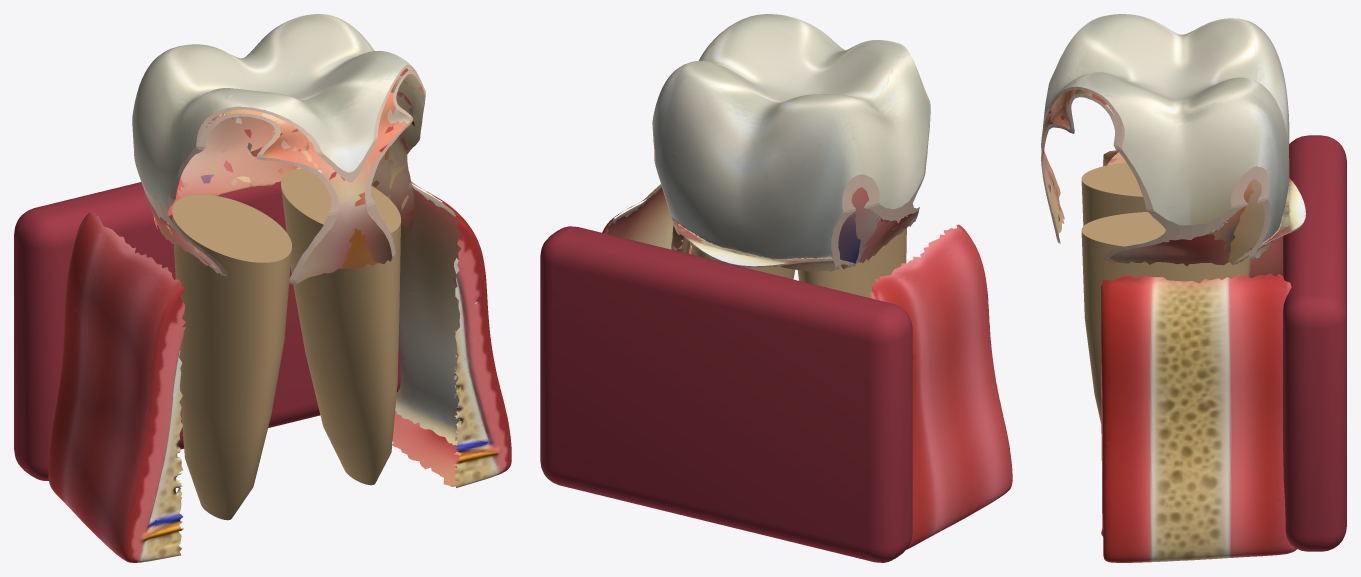
Rendered from tooth_gum_realistic_two_mesh_animation.glb.
3 views of the same model, side by side, from view 1: azimuth 30°, elevation 25°; view 2: azimuth 150°, elevation 25°; view 3: azimuth 270°, elevation 25° (orthographic). The views are drawn at different scales.
Visible parts, largest first — view 1: Teeth, Gum; view 2: Gum, Teeth; view 3: Gum, Teeth.
Boxes of the visible parts, <box> form: Teeth: <box>132,14,425,520</box>; Gum: <box>14,181,511,562</box>; Gum: <box>540,184,1012,562</box>; Teeth: <box>652,14,930,297</box>; Gum: <box>1101,135,1346,562</box>; Teeth: <box>1041,14,1305,423</box>.
Size of the model in its own units: 0.1359 by 0.1491 by 0.0957.
3 materials, 1 textured.
